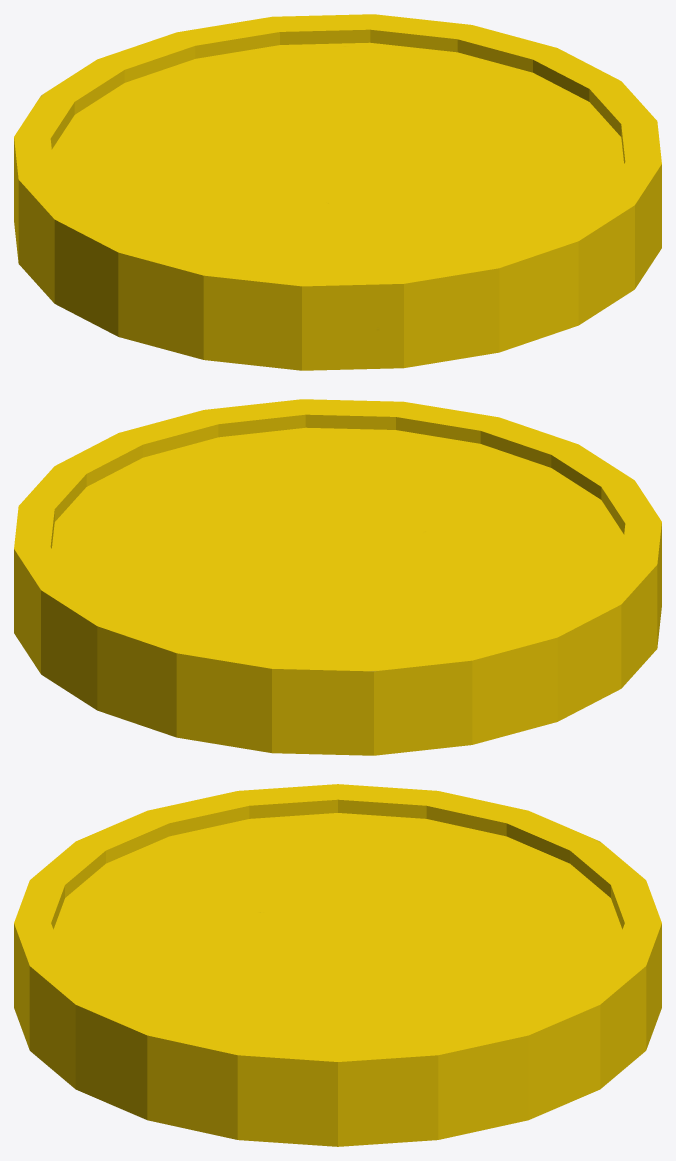
Rendered from mod_coin.fbx.
3 renders of one model, top to bottom at view 1: azimuth 30°, elevation 25°; view 2: azimuth 150°, elevation 25°; view 3: azimuth 270°, elevation 25°, orthographic.
Visible parts, largest first — view 1: pCylinder1; view 2: pCylinder1; view 3: pCylinder1.
Part boxes in pixels (<box>): pCylinder1: <box>14,14,661,370</box>; pCylinder1: <box>14,399,661,755</box>; pCylinder1: <box>14,784,661,1146</box>.
Bounding box in the file's own units: 170 × 24.22 × 168.
